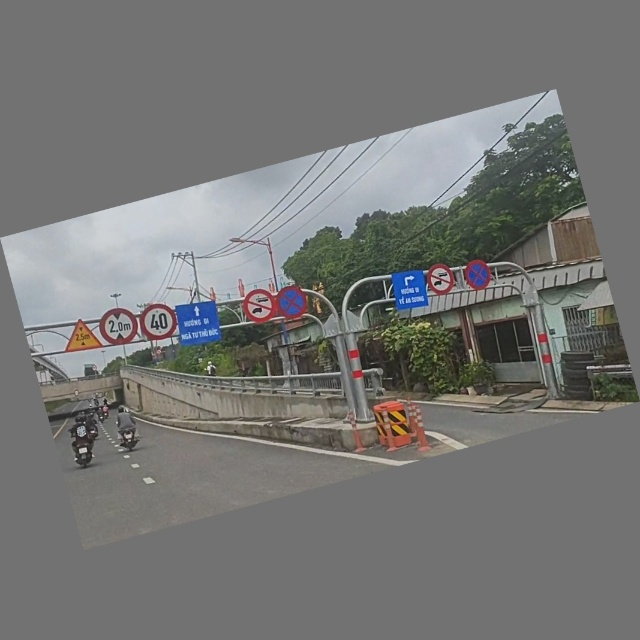P.107: (240, 285, 280, 328), (423, 261, 459, 299)
P.117*: (95, 304, 143, 351)
P.127*40: (137, 301, 181, 344)
P.130: (273, 283, 312, 323), (462, 257, 496, 294)
W.239b*: (56, 315, 105, 360)
